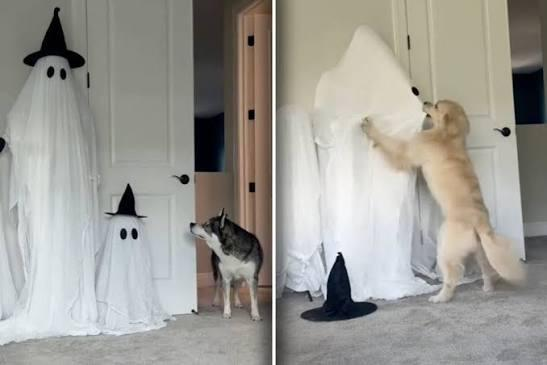adult_dog: (361, 98, 530, 303), (188, 209, 264, 323)
